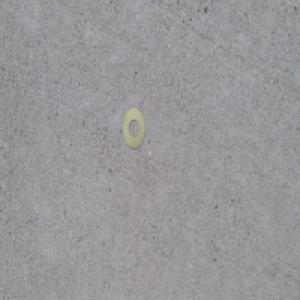Washer: (122, 107, 146, 150)
